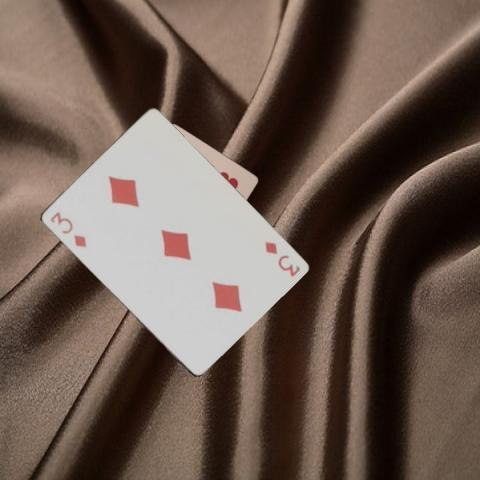3d: (47, 209, 88, 249), (261, 238, 301, 278)
